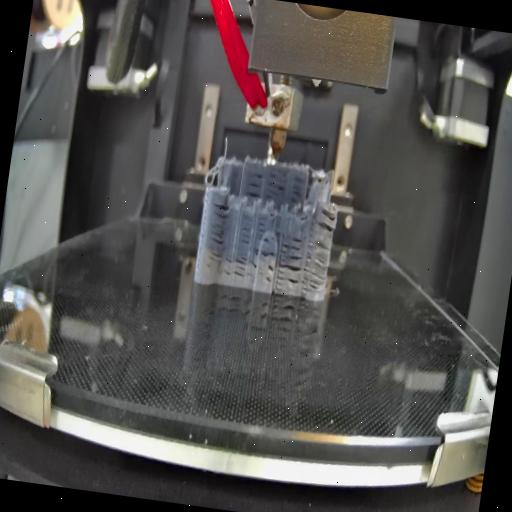cracks: (299, 239, 332, 295), (205, 200, 230, 260), (274, 252, 302, 296), (222, 254, 259, 280), (314, 204, 338, 234), (264, 170, 286, 202), (286, 174, 308, 206), (244, 168, 264, 198), (238, 216, 254, 246), (282, 230, 302, 253), (252, 246, 276, 262), (255, 213, 267, 236), (264, 263, 276, 285), (262, 236, 272, 246)
